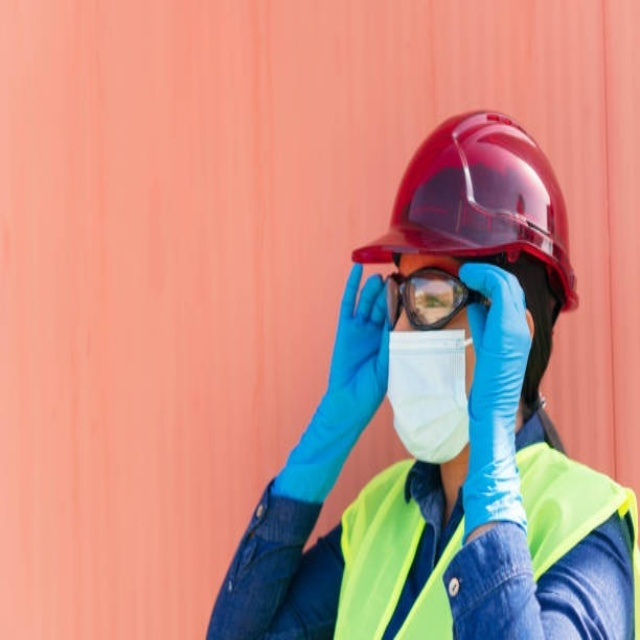Gafas: (386, 264, 478, 328)
Guantes: (276, 260, 395, 507), (458, 258, 533, 546)
Mascara: (386, 324, 475, 463)
